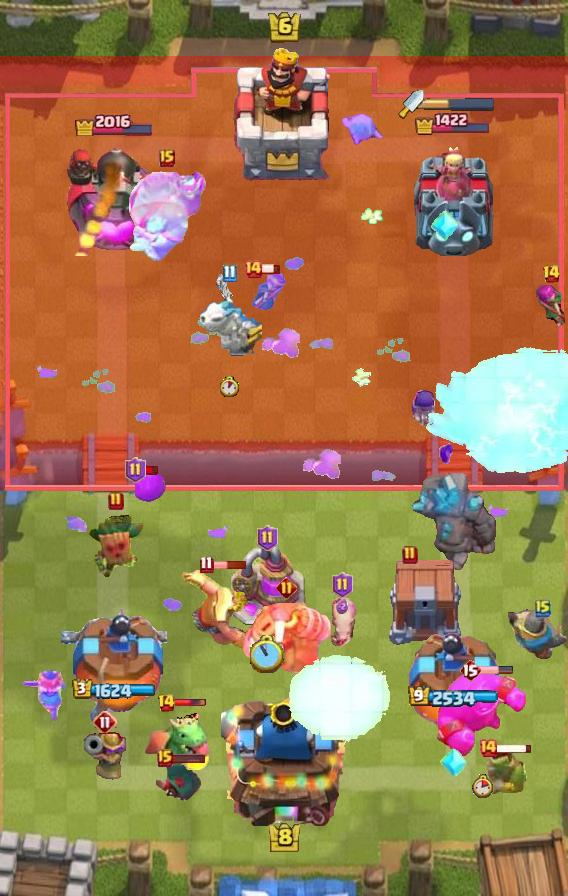bar: (409, 142, 497, 256)
bat: (340, 112, 384, 148)
bomb: (386, 560, 464, 646)
bomb-tower: (84, 727, 126, 795)
cannon: (247, 270, 287, 322), (530, 285, 568, 331)
cannoneer-tower: (410, 472, 500, 574)
clone: (436, 669, 528, 759)
electro-spirit: (336, 598, 348, 613)
electro-wizard: (144, 700, 212, 770)
elixir: (250, 635, 286, 673), (472, 774, 493, 798), (221, 376, 240, 397)
emote: (170, 752, 206, 764), (496, 742, 533, 753), (478, 665, 514, 675), (213, 560, 248, 570), (173, 698, 207, 708), (261, 263, 281, 275), (144, 465, 161, 476)
firecracker: (508, 608, 568, 659)
flying-machine: (482, 748, 528, 800)
giant: (325, 593, 359, 649)
goblin: (409, 389, 439, 427)
goblin-barrel: (87, 514, 145, 582)
goblin-hut: (180, 570, 260, 650)
hog-rider: (20, 669, 68, 723)
king-tower: (221, 690, 347, 826), (229, 43, 339, 181)
king-tower-bar: (424, 97, 496, 111)
lava-hound: (126, 168, 208, 264)
mega-knight: (424, 344, 568, 480), (286, 653, 392, 747)
miner: (135, 472, 167, 502)
mini-pekka: (196, 274, 262, 358)
night-witch: (239, 600, 333, 674)
pad_2: (431, 208, 459, 242), (440, 745, 468, 779)
pekka: (228, 545, 306, 627)
queen-tower: (61, 603, 167, 731), (407, 633, 499, 731)
selected: (409, 686, 500, 710), (73, 112, 154, 137), (414, 112, 492, 136), (72, 678, 156, 700)
tesla: (154, 755, 202, 801)
text: (93, 710, 117, 734), (257, 525, 279, 551), (126, 457, 147, 483), (332, 572, 353, 598), (459, 658, 481, 682), (275, 577, 296, 599), (243, 259, 263, 279), (542, 264, 562, 284), (478, 738, 498, 758), (157, 693, 176, 713), (108, 491, 124, 511), (402, 545, 418, 565), (535, 598, 551, 618), (159, 149, 175, 167), (157, 749, 173, 767), (223, 265, 238, 284), (199, 554, 213, 573)
tower-bar: (63, 138, 164, 256)
